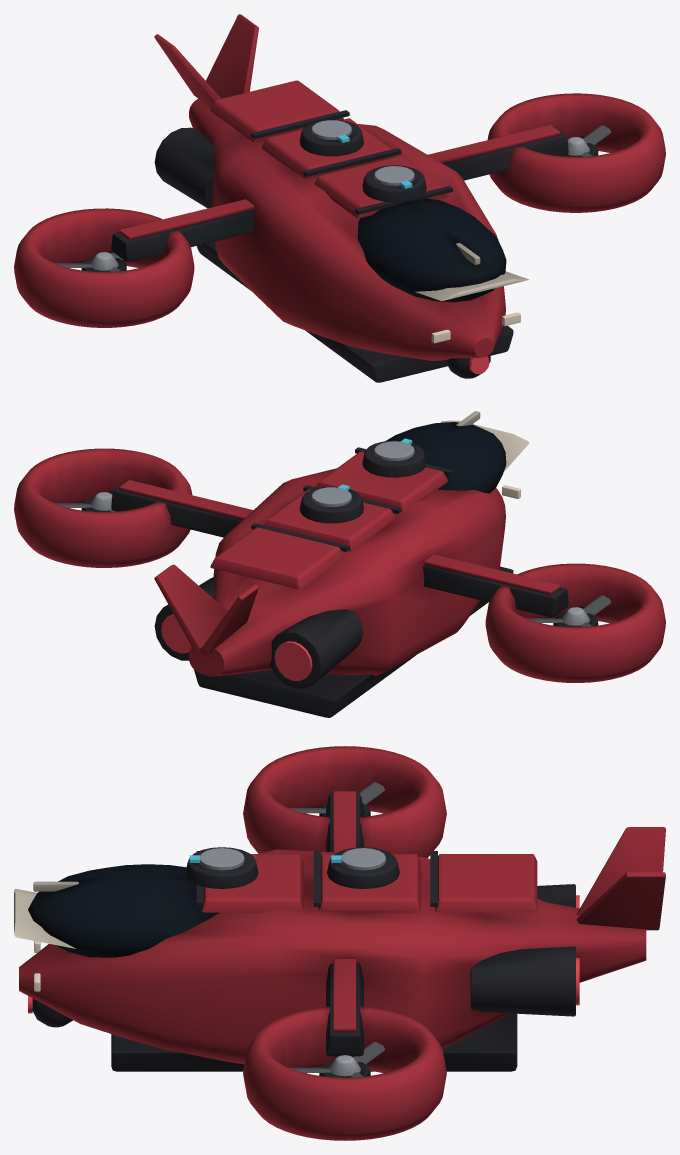
The model's file is ex_gunship_2.glb.
3 renders of one model, top to bottom at view 1: azimuth 30°, elevation 25°; view 2: azimuth 150°, elevation 25°; view 3: azimuth 270°, elevation 25°, orthographic. The views are drawn at different scales.
Visible parts, largest first — view 1: body, rotor_0, rotor_1; view 2: body, rotor_1, rotor_0; view 3: body, rotor_0.
Part boxes in pixels (box(x1,y1,x2,y2)): body: box(14, 14, 665, 382); rotor_0: box(567, 125, 611, 156); rotor_1: box(55, 252, 122, 271); body: box(14, 411, 665, 717); rotor_1: box(526, 595, 611, 626); rotor_0: box(55, 492, 116, 511); body: box(14, 746, 665, 1140); rotor_0: box(289, 1041, 384, 1077).
Size of the model in its own units: 10.01 by 2.52 by 7.98.
